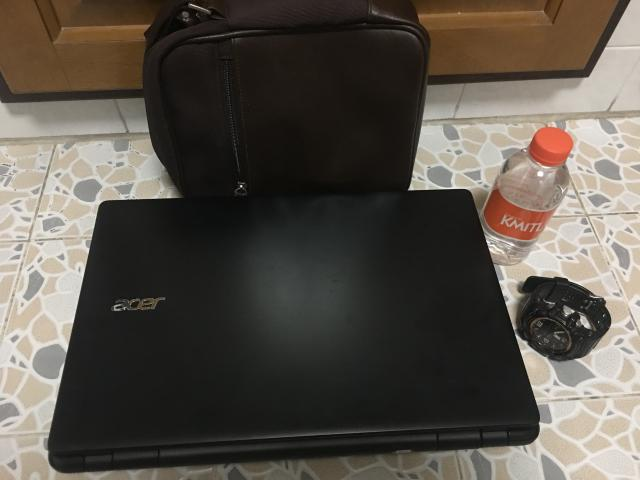Watch: (519, 276, 611, 360)
bottle: (480, 126, 574, 265)
